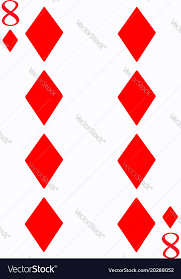eight of diamonds: (1, 1, 181, 259)
